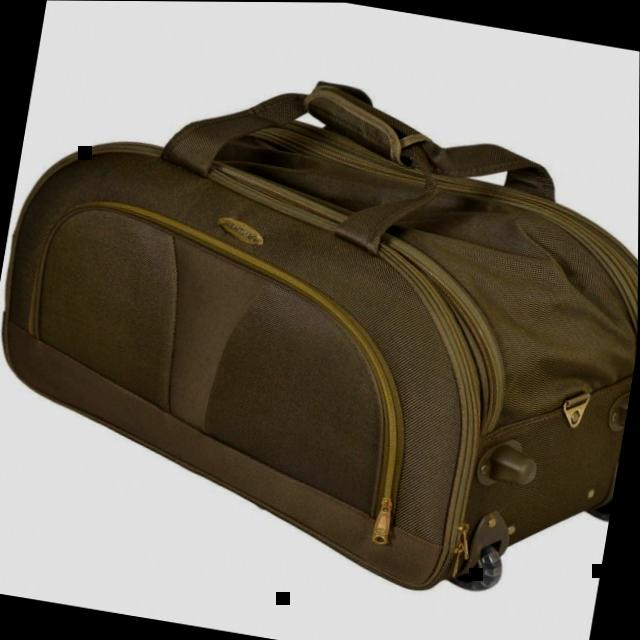luggage: (0, 21, 640, 627)
